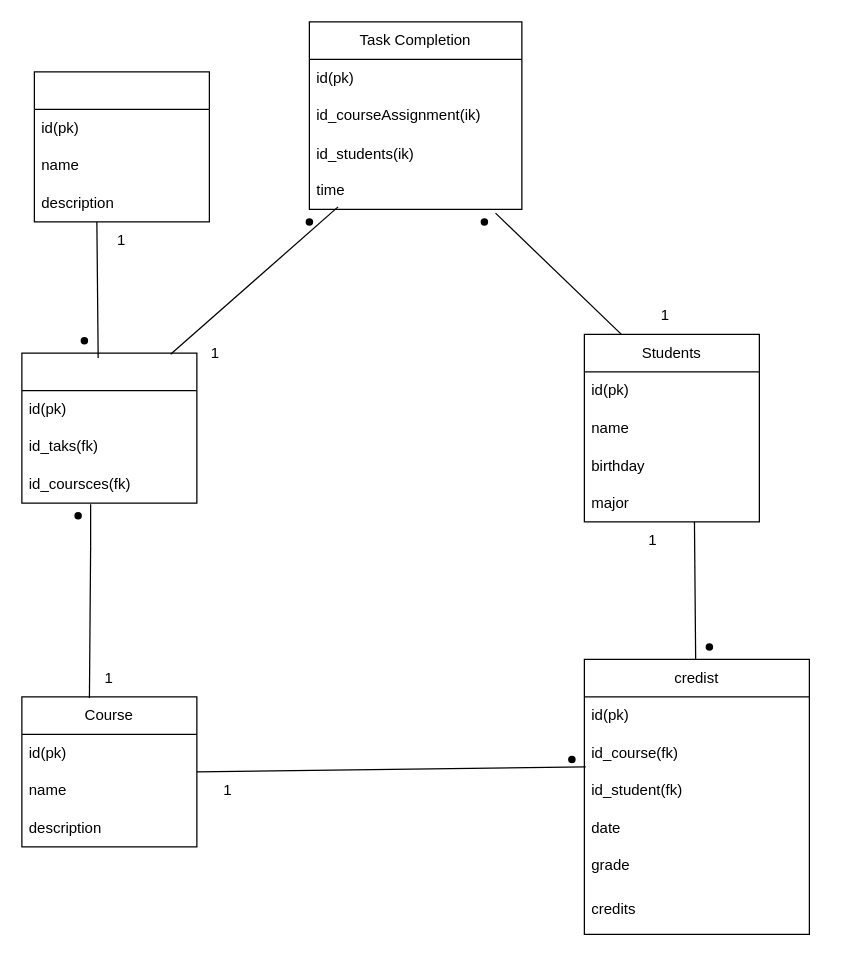
The diagram is 841 pixels wide and 956 high, and some of its shapes have lost their labels. The box of each missing label's shape, as (x1, y1, x2, y2) in pixels:
CourseAssignments: (21, 352, 197, 503)
Tasks: (33, 71, 209, 222)
